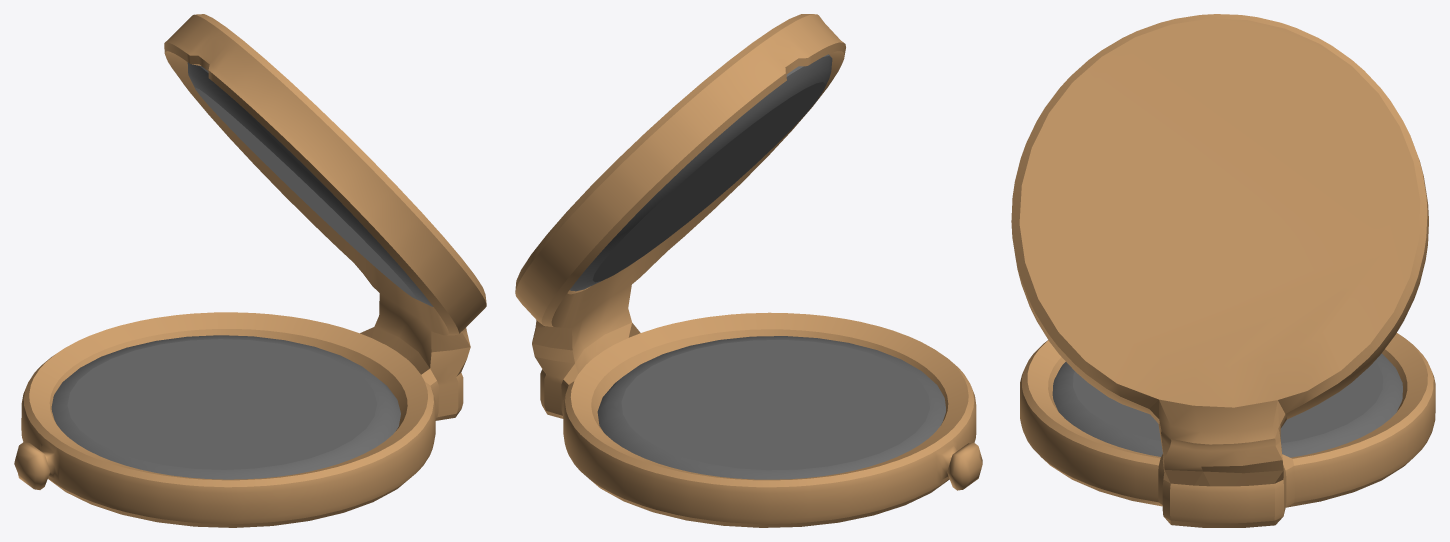
File: hand mirror.fbx
The picture shows the model from 3 angles, left to right: view 1: azimuth 30°, elevation 25°; view 2: azimuth 150°, elevation 25°; view 3: azimuth 270°, elevation 25°; orthographic projection.
Visible parts, largest first — view 1: hand mirror 01, hand mirror 02; view 2: hand mirror 01, hand mirror 02; view 3: hand mirror 01, hand mirror 02.
Boxes of the visible parts, bbox=[...] form: hand mirror 01: bbox=[14, 14, 486, 527]; hand mirror 02: bbox=[51, 62, 433, 479]; hand mirror 01: bbox=[515, 14, 982, 527]; hand mirror 02: bbox=[570, 54, 945, 479]; hand mirror 01: bbox=[1011, 14, 1435, 527]; hand mirror 02: bbox=[1052, 353, 1402, 457].
Bounding box in the file's own units: 0.1196 × 0.1106 × 0.103.
